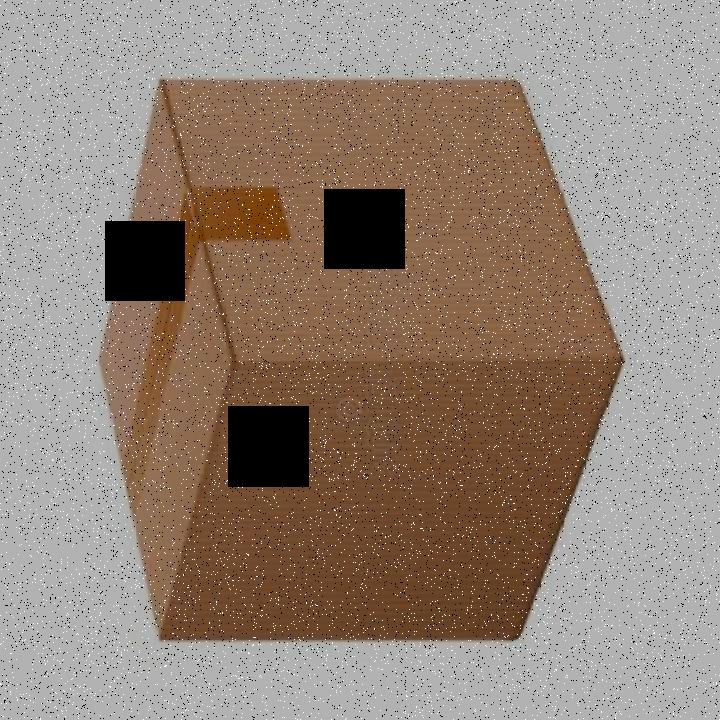box: (93, 72, 629, 650)
